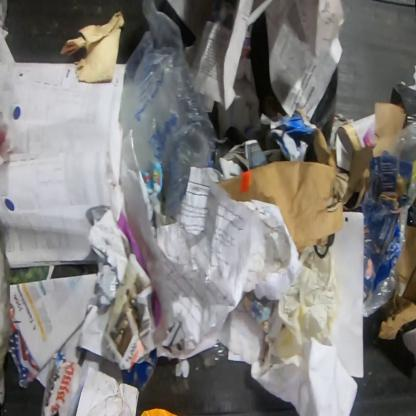cardboard: (218, 129, 348, 254), (354, 147, 415, 306), (342, 102, 405, 211), (377, 224, 415, 341), (258, 107, 317, 161), (121, 346, 158, 390)
soft_plastic: (118, 0, 216, 216), (362, 175, 415, 320), (387, 120, 415, 156), (395, 83, 415, 131)
